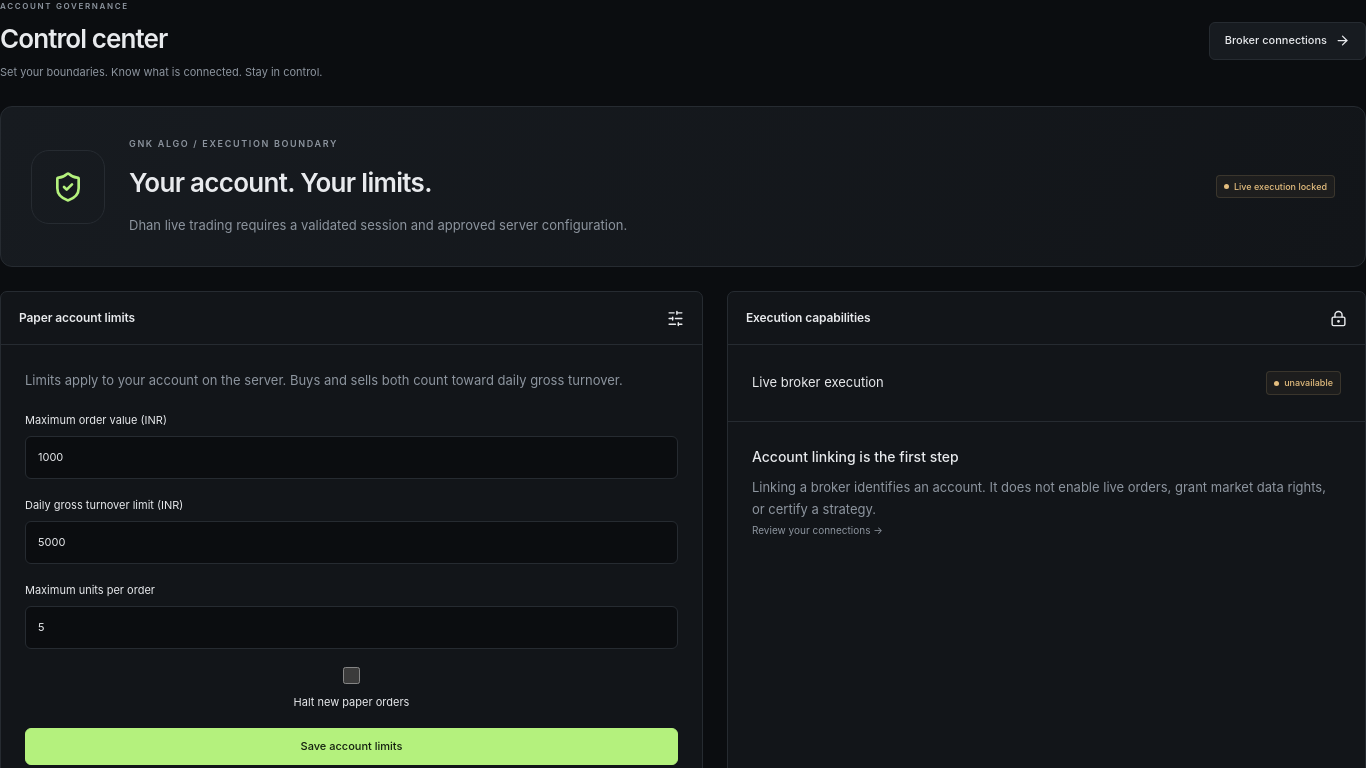
Test: an uncertain save requires a verified reload before another mutation
Click the button "Save account limits" at (351,747), box x1=25 y1=728 x2=678 y2=766
(page scrolled)
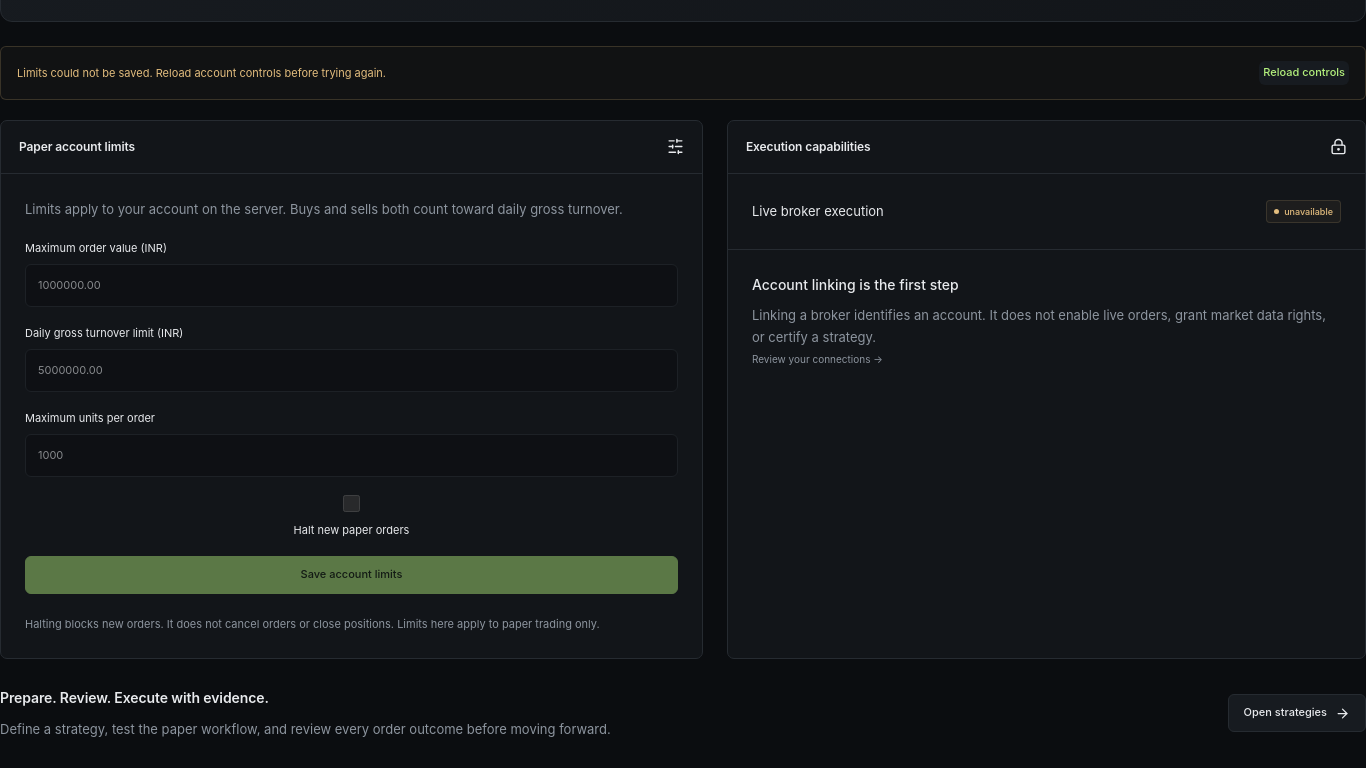
Expected: the button "Save account limits" is disabled, x1=25 y1=556 x2=678 y2=594
Now the message shows "could not be saved", box x1=17 y1=66 x2=386 y2=80
